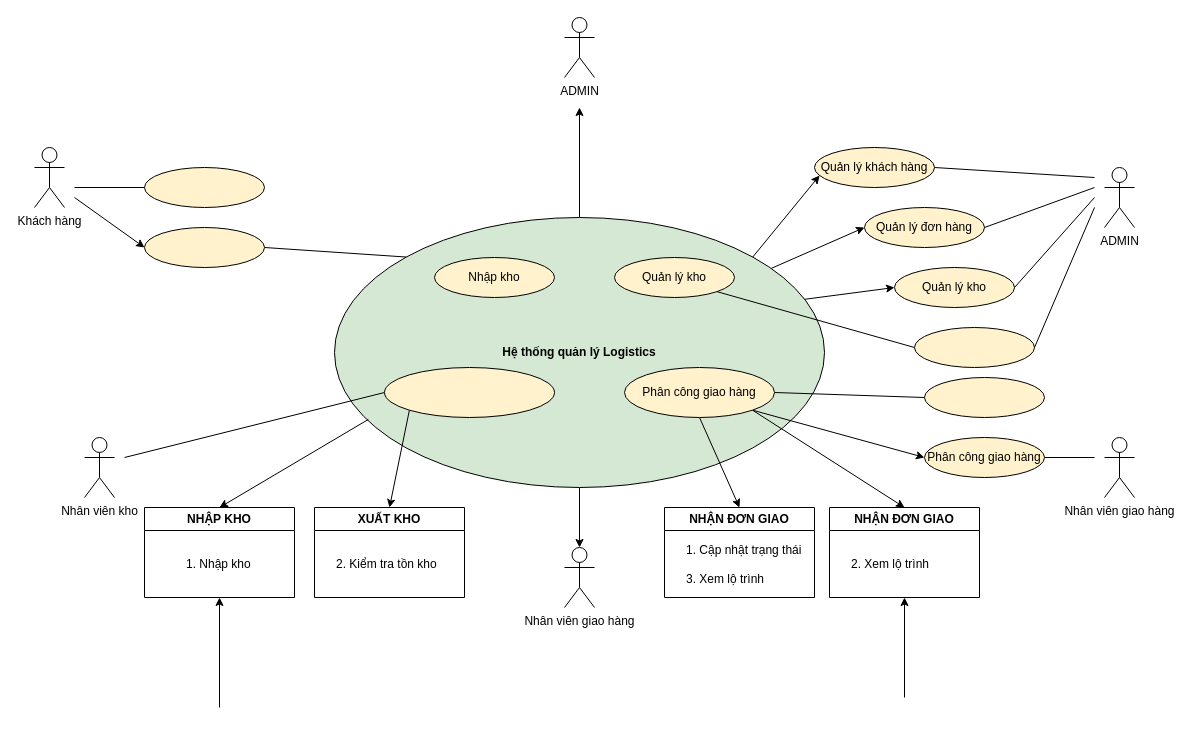
This 1191x733 diagram has some shape labels left out. Here are the shapes that lost their labels. From the top down, the centre of each, then its label:
the point at 204,187: Tạo đơn hàng
the point at 204,247: Theo dõi đơn hàng
the point at 974,347: Quản lý xe vận chuyển
the point at 469,392: Quản lý trạng thái vận chuyển
the point at 984,397: Quản lý lộ trình
